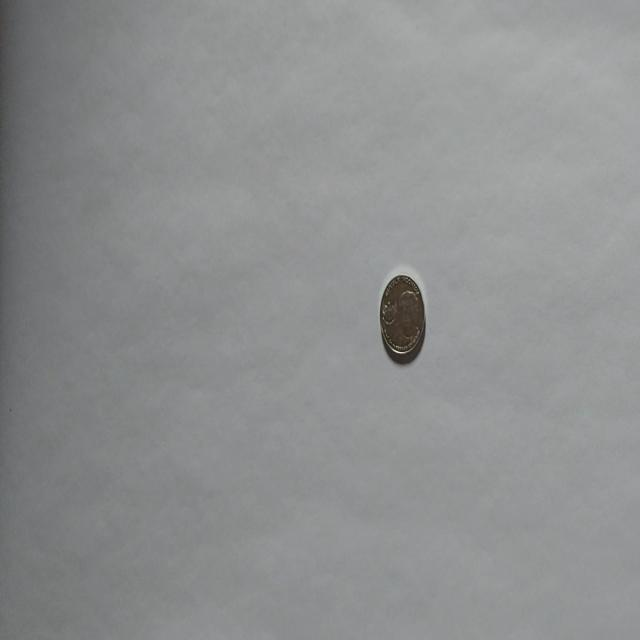seratus rupiah: (378, 272, 426, 363)
